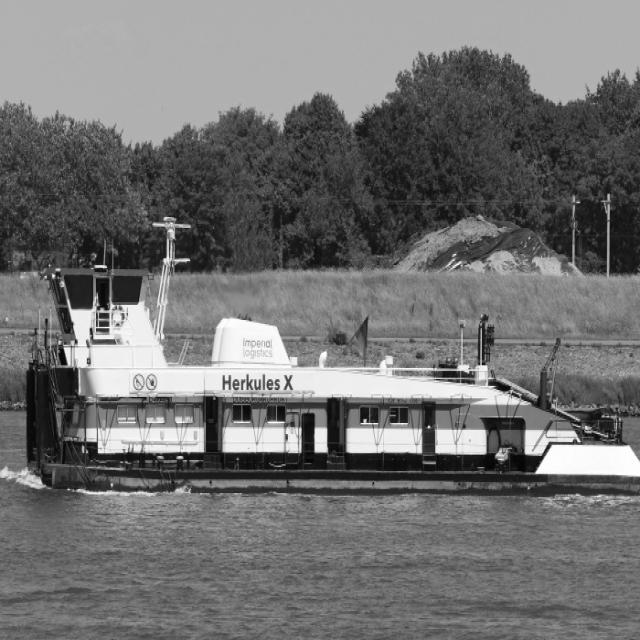tugboat: (23, 215, 640, 505)
